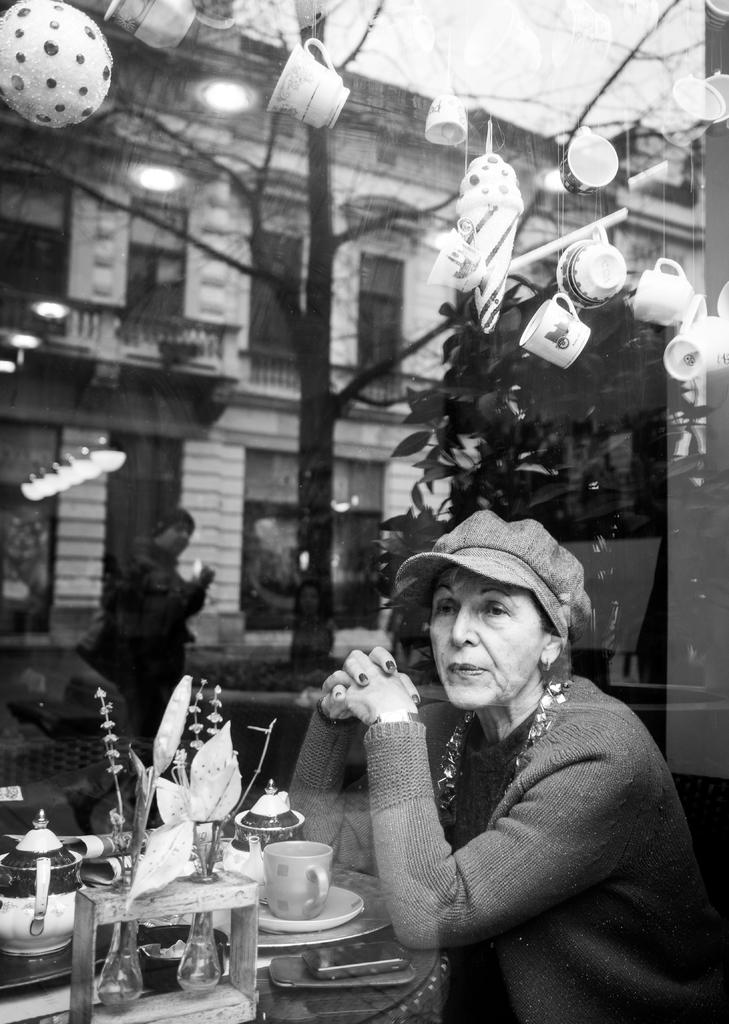Hat: (395, 508, 594, 646)
